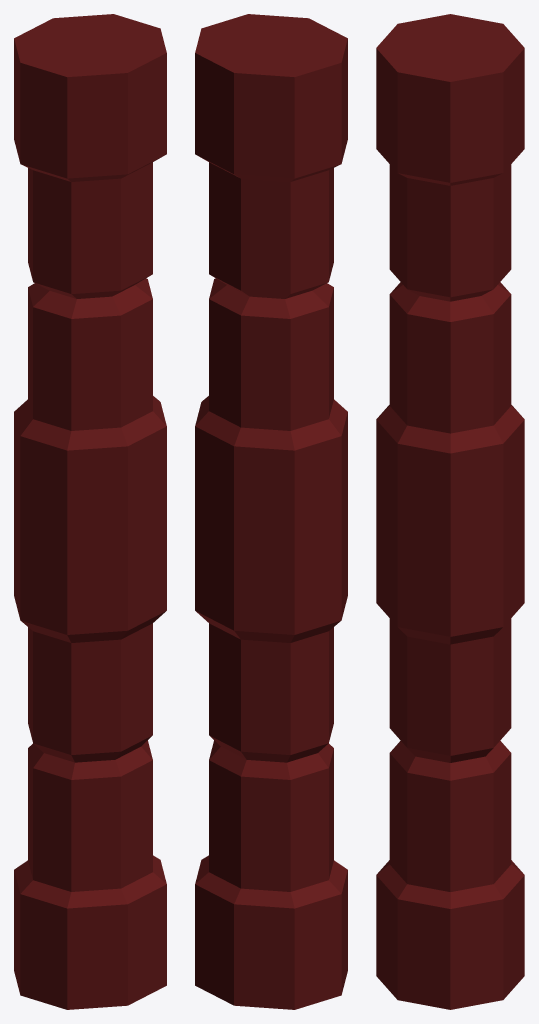
Rendered from Door_Pillar.fbx.
The picture shows the model from 3 angles, left to right: view 1: azimuth 30°, elevation 25°; view 2: azimuth 150°, elevation 25°; view 3: azimuth 270°, elevation 25°; orthographic projection.
Parts seen in each view (by area): view 1: Pillar; view 2: Pillar; view 3: Pillar.
Part boxes in pixels (x1,y1,x2,y2): Pillar: [14, 14, 166, 1009]; Pillar: [195, 14, 347, 1009]; Pillar: [376, 14, 524, 1009].
Size of the model in its own units: 0.3146 by 0.2904 by 2.
